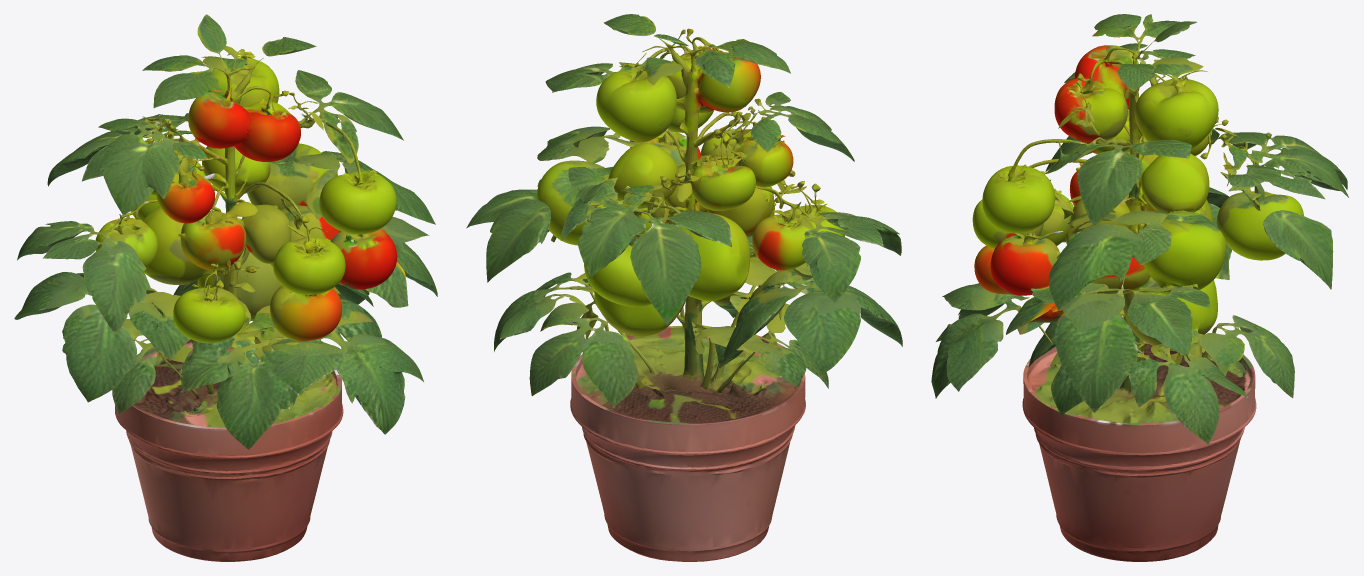
Rendered from tomat.glb.
3 renders of one model, left to right at view 1: azimuth 30°, elevation 25°; view 2: azimuth 150°, elevation 25°; view 3: azimuth 270°, elevation 25°, orthographic. The views are drawn at different scales.
Visible parts, largest first — view 1: model; view 2: model; view 3: model.
Part boxes in pixels (bbox=[...]): model: bbox=[14, 14, 437, 561]; model: bbox=[466, 14, 902, 561]; model: bbox=[931, 14, 1348, 561].
Bounding box in the file's own units: 1.51 × 1.9 × 1.4.
Materials: 1 (1 with a texture image).
